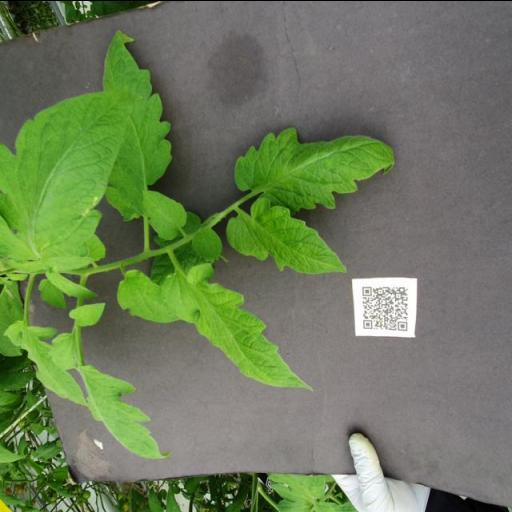Healthy: (0, 82, 124, 274), (160, 261, 314, 388), (100, 27, 174, 220), (234, 126, 396, 212), (226, 195, 348, 276), (80, 364, 174, 462), (118, 267, 180, 323), (141, 190, 188, 238)
